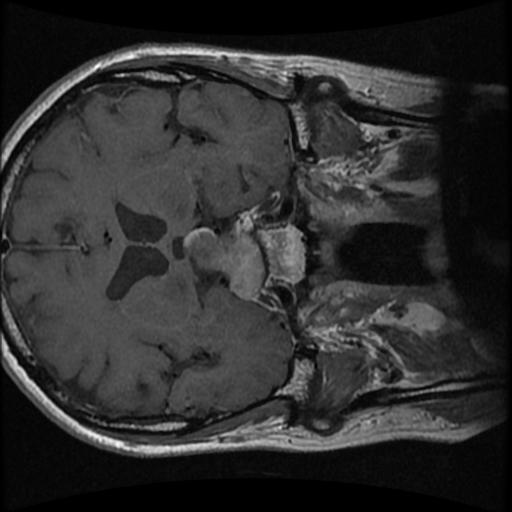pituitary tumour: (185, 228, 263, 299)
